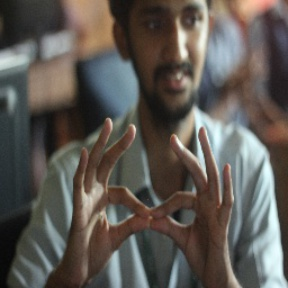B: (91, 162, 206, 261)
